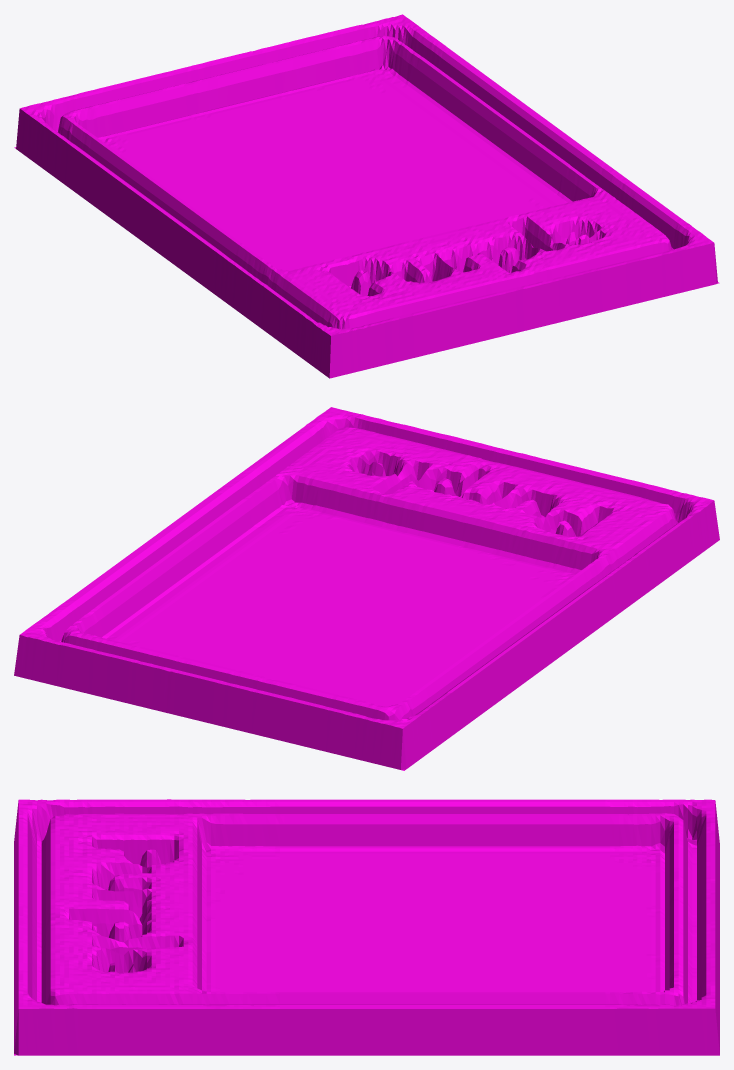
3 renders of one model, top to bottom at view 1: azimuth 30°, elevation 25°; view 2: azimuth 150°, elevation 25°; view 3: azimuth 270°, elevation 25°, orthographic. The views are drawn at different scales.
Parts seen in each view (by area): view 1: imagetostl_mesh0; view 2: imagetostl_mesh0; view 3: imagetostl_mesh0.
Part boxes in pixels (left/top/right/bottom): imagetostl_mesh0: left=14, top=14, right=719, bottom=378; imagetostl_mesh0: left=14, top=407, right=719, bottom=770; imagetostl_mesh0: left=14, top=799, right=719, bottom=1055.
Bounding box in the file's own units: 2563 × 254 × 3590.
